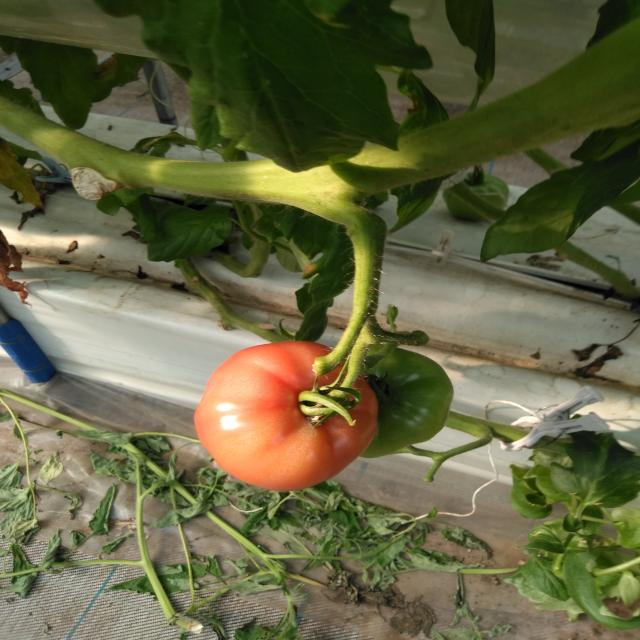n-half-riped: (192, 340, 379, 491)
n-unriped: (359, 343, 455, 458), (443, 171, 508, 221)
